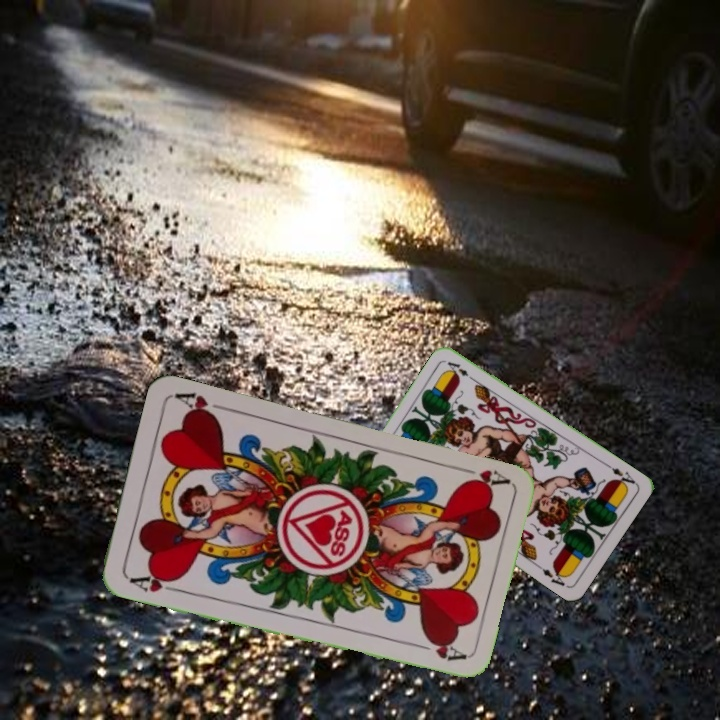EA: (602, 460, 639, 491)
HA: (452, 462, 511, 493), (125, 568, 183, 595)
